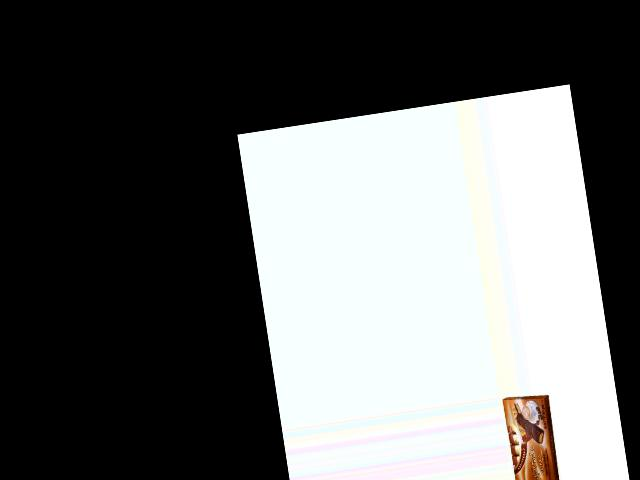chocolate: (501, 390, 563, 480)
